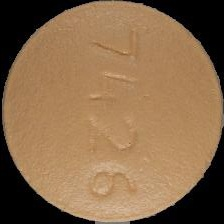0615-7748: (0, 0, 224, 224)
